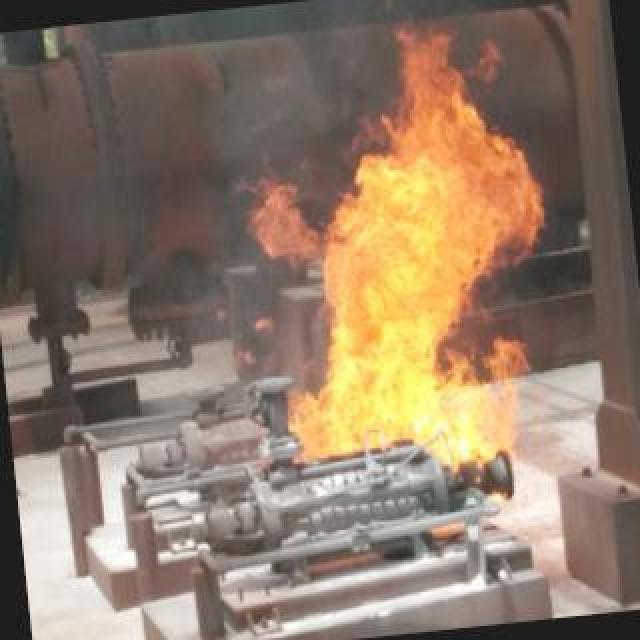Fire: (283, 28, 545, 462)
